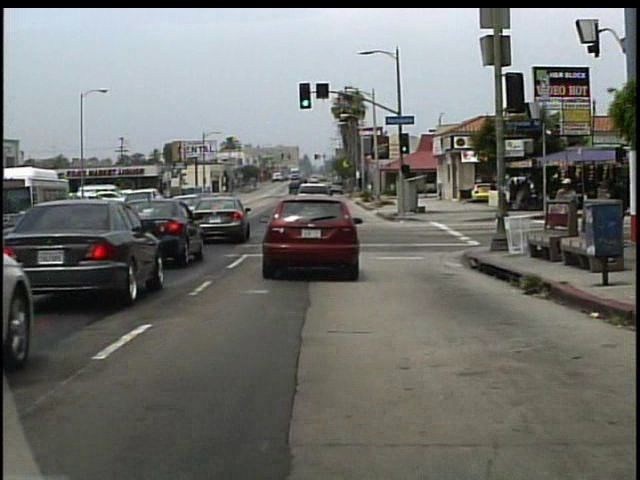person: (551, 173, 582, 253), (486, 178, 499, 207)
